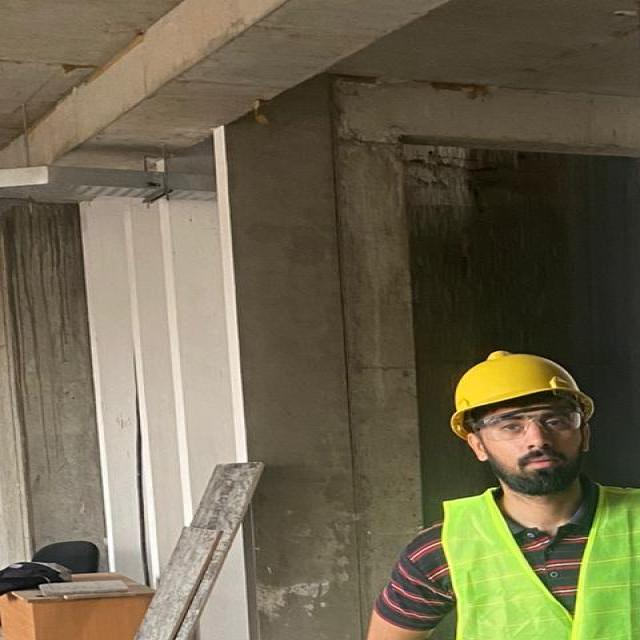Goggles: (460, 402, 589, 443)
Helmet: (441, 347, 604, 439)
Vest: (416, 476, 640, 640)
